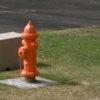Hydrant: (14, 12, 45, 93)
